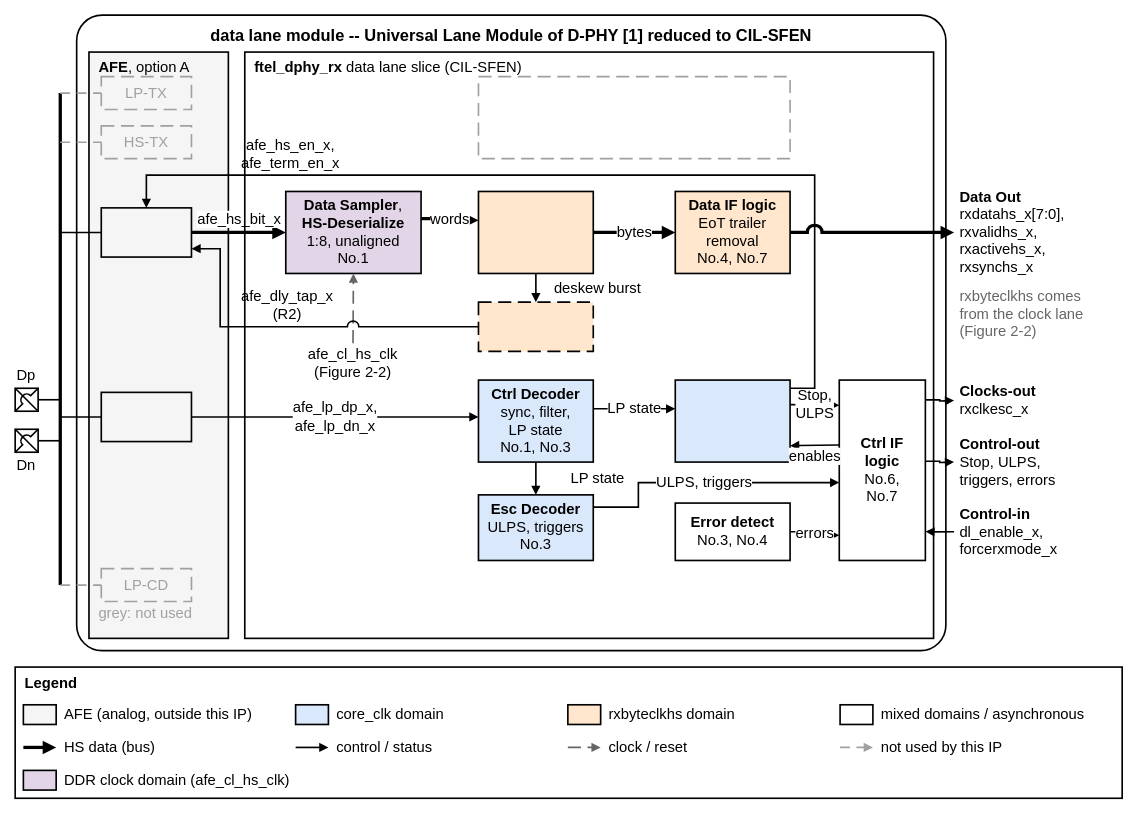
This 1137x813 diagram has some shape labels left out. The centre of each missing label's shape, as x and y in pixels:
Deskew (v1.2) No.5, R2: pixel 535 326
HS-Deserialize sync search, byte align No.4: pixel 535 232
HS-RX + RT: pixel 146 232
LP-RX: pixel 146 416
State Machine enables, selects No.3, No.6: pixel 732 420
Tx functions, not used: TX Ctrl Logic, Esc Encoder, HS-Serialize, Sequences: pixel 633 117
